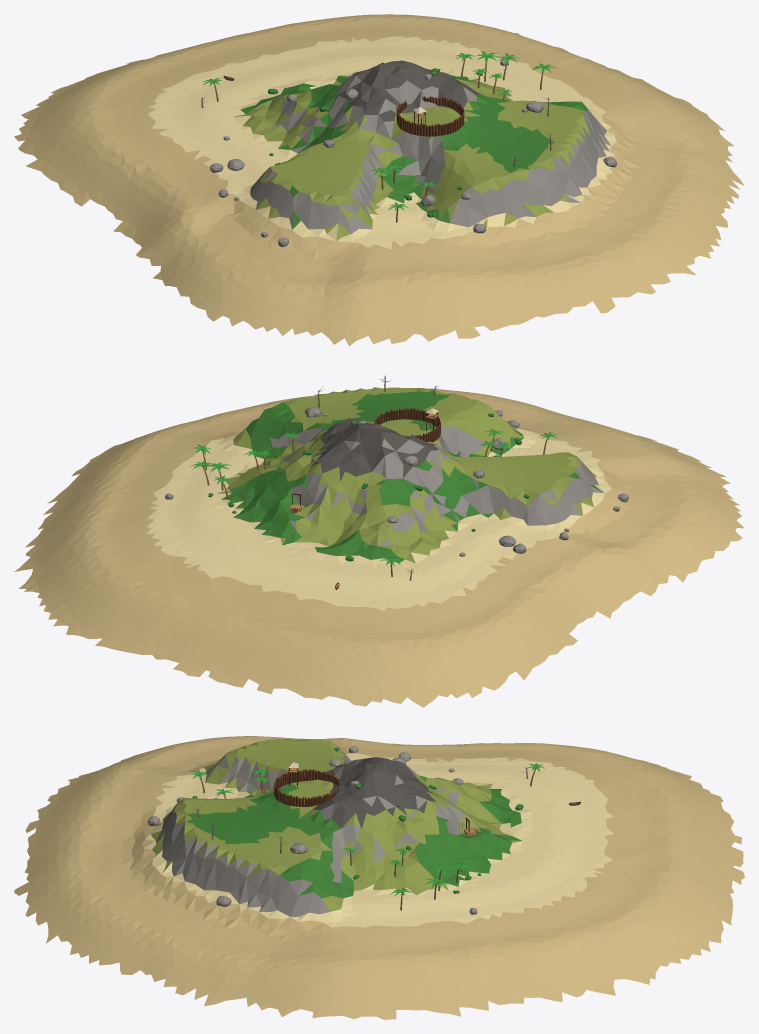
File: Island_Hangman.fbx
3 renders of one model, top to bottom at view 1: azimuth 30°, elevation 25°; view 2: azimuth 150°, elevation 25°; view 3: azimuth 270°, elevation 25°, orthographic. The views are drawn at different scales.
Visible parts, largest first — view 1: Terrain, Palisade; view 2: Terrain, Palisade; view 3: Terrain, Palisade.
Boxes of the visible parts, box(x1,y1,x2,y2) form: Terrain: box(14, 14, 744, 346); Palisade: box(396, 96, 464, 136); Terrain: box(14, 387, 744, 707); Palisade: box(374, 407, 440, 442); Terrain: box(14, 736, 744, 1019); Palisade: box(274, 769, 338, 806).
Bounding box in the file's own units: 213 × 42.26 × 237.
